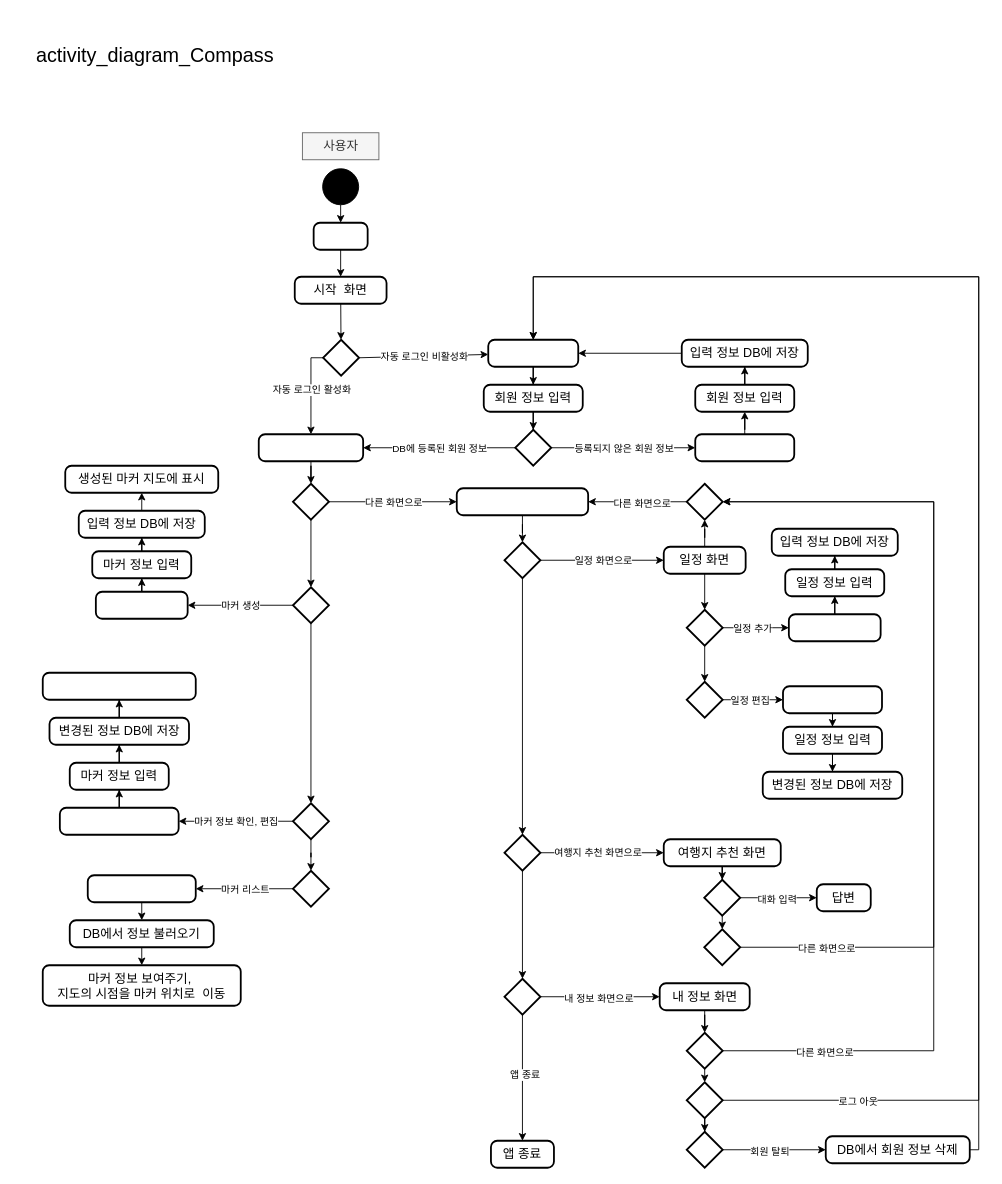
Some shapes in this 1002 by 1184 pixel diagram are drawn without their labels. The shapes that lost their labels are listed below. From the top down, each one's box as (x1, y1, x2, y2) in pixels, then its label:
(312, 221, 368, 250): 시작
(487, 338, 579, 367): 로그인 화면
(257, 433, 364, 462): 지도 마커 화면
(694, 433, 795, 462): 회원 가입 화면
(455, 487, 589, 516): 하단 네비게이션 바
(94, 590, 188, 619): 마커 생성 창
(788, 613, 881, 642): 일정 추가 창
(41, 671, 196, 700): 변경된 마커 지도에 표시
(782, 685, 882, 714): 일정 편집 창
(58, 806, 179, 835): 마커 정보 편집 창
(86, 874, 196, 903): 마커 리스트 창
